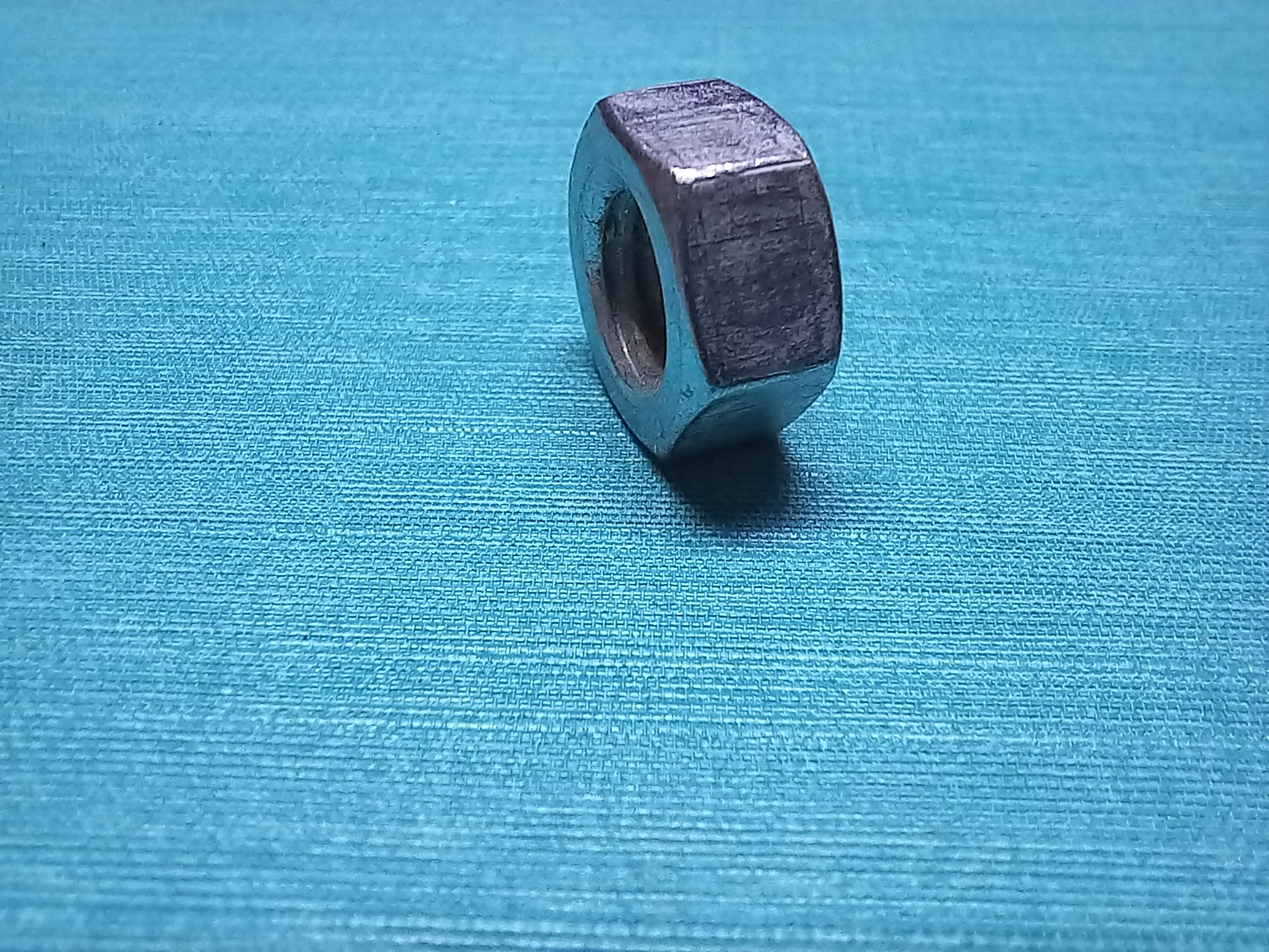nut: (408, 61, 1002, 708)
